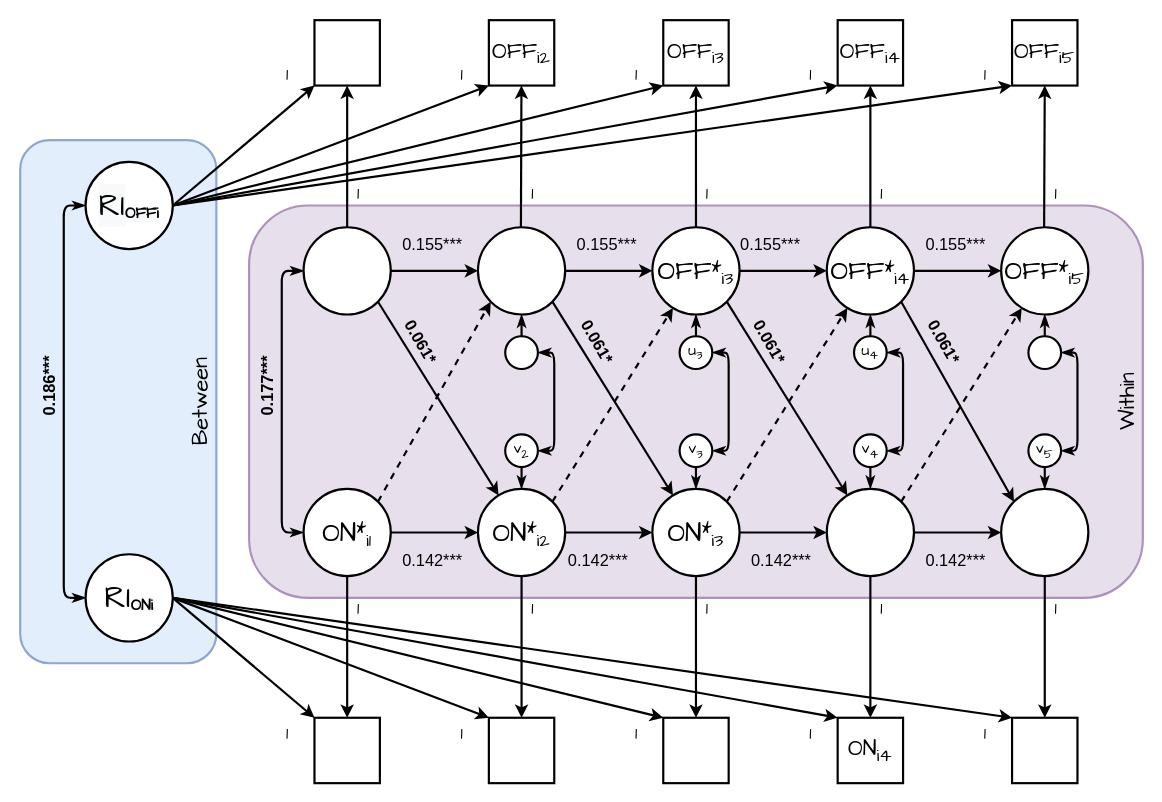
Image size: 1162x802. Some labels were removed from this diagram. Each missing label, with the centre of its shape:
"OFF * i 1" goes at [346,270].
"OFF * i 2" goes at [521,270].
"OFF i1" goes at [346,52].
"ON * i 4" goes at [870,532].
"ON * i 5" goes at [1044,532].
"ON i1" goes at [346,750].
"ON i2" goes at [521,750].
"ON i3" goes at [695,750].
"ON i5" goes at [1044,750].
"u 2" goes at [521,352].
"u 5" goes at [1044,352].
